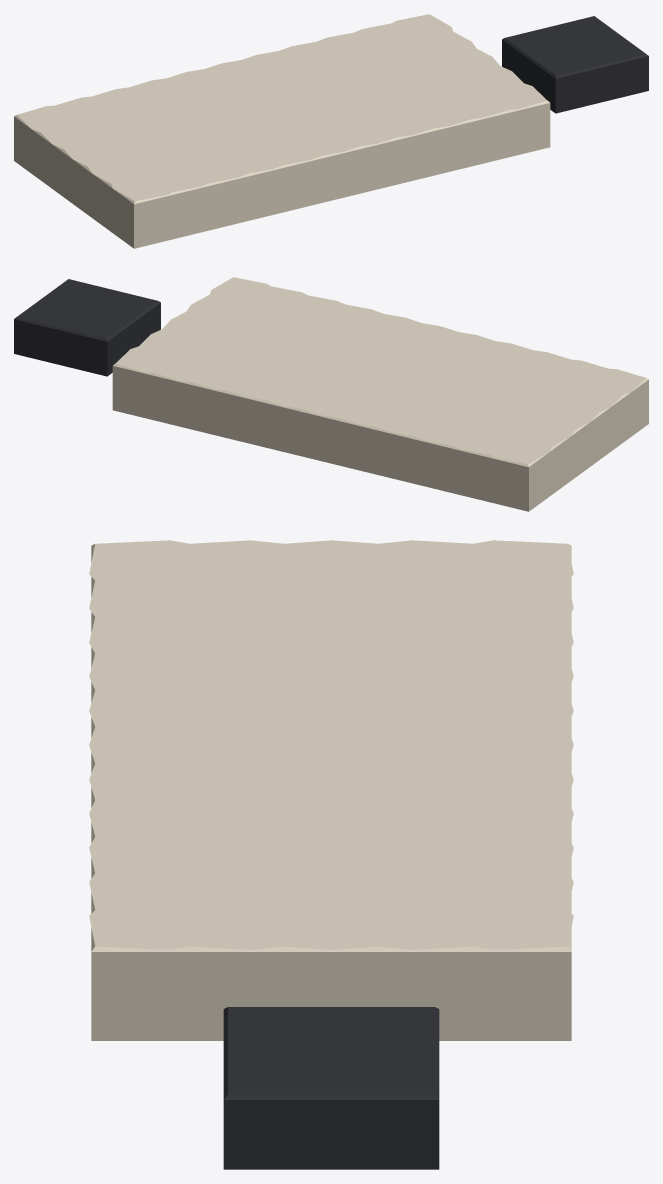
File: mahsulot.glb
3 renders of one model, top to bottom at view 1: azimuth 30°, elevation 25°; view 2: azimuth 150°, elevation 25°; view 3: azimuth 270°, elevation 25°, orthographic. The views are drawn at different scales.
Visible parts, largest first — view 1: mahsulot_A, mahsulot_B; view 2: mahsulot_A, mahsulot_B; view 3: mahsulot_A, mahsulot_B.
Part boxes in pixels (x1,y1,x2,y2): mahsulot_A: [14, 14, 550, 248]; mahsulot_B: [502, 16, 648, 113]; mahsulot_A: [112, 277, 648, 511]; mahsulot_B: [14, 279, 160, 376]; mahsulot_A: [89, 540, 573, 1040]; mahsulot_B: [223, 1007, 439, 1169].
Size of the model in its own units: 0.4715 by 0.038 by 0.18.
